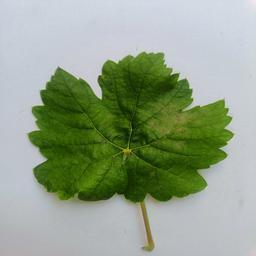Powdery-Mildew: (145, 99, 195, 139), (150, 60, 166, 77), (204, 110, 220, 127)
